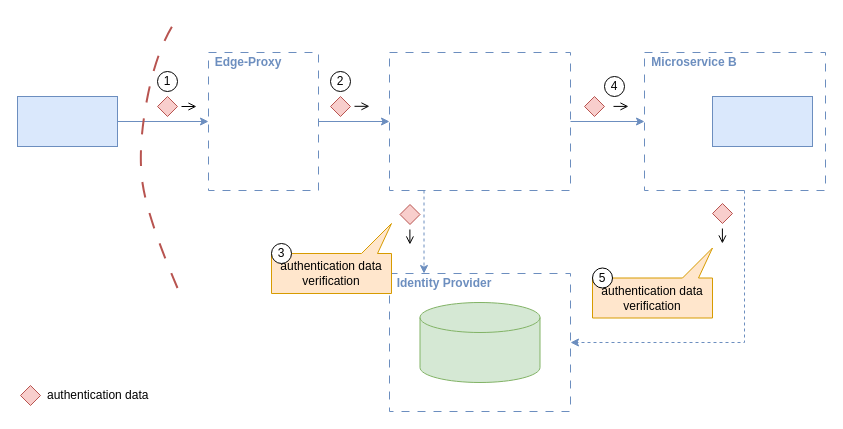
Image size: 843x429. Some labels were removed from this diagram. The shapes that lost their labels are listed below. From the top down, each one's centre as x and y in pixels, then its label:
At (67,121): "Some Client «Subject»".
At (479,121): "Microservice A".
At (762,121): "Some Entity «Object»".
At (479,342): "Identity Store".
